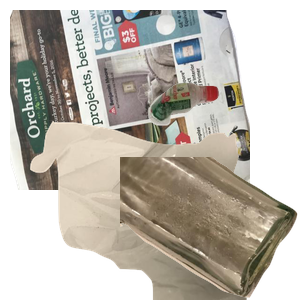glass: (120, 157, 300, 300)
paper: (10, 10, 250, 190)
plastic: (146, 80, 300, 198)
trash: (28, 120, 267, 300)
